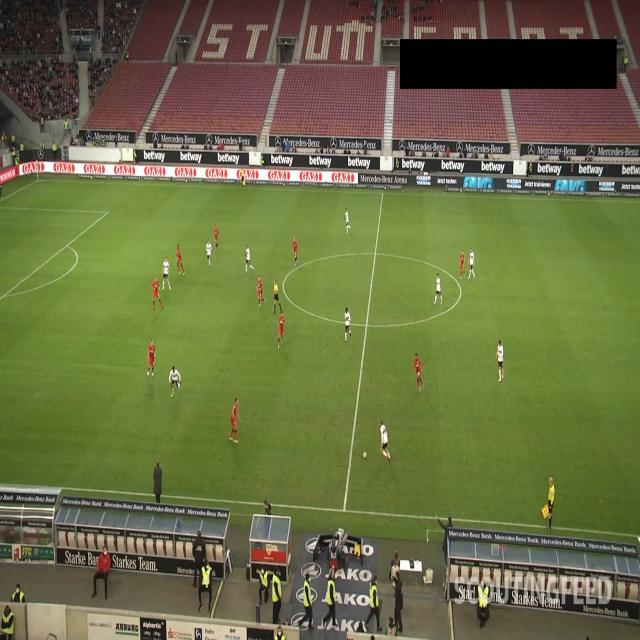ball: (362, 451, 368, 459)
